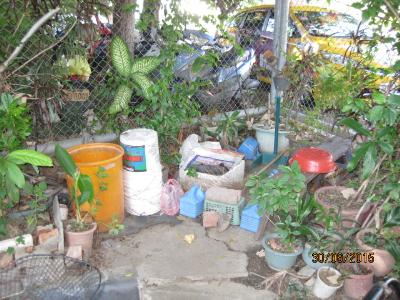bottle: (178, 185, 207, 220), (238, 197, 263, 232)
bowl: (286, 147, 338, 175)
bucket: (62, 141, 127, 232), (119, 127, 163, 183)
plastic_bag: (159, 176, 184, 216)
styrofoam: (179, 150, 244, 187)
